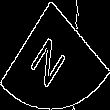N_NE: (32, 23, 78, 87)
